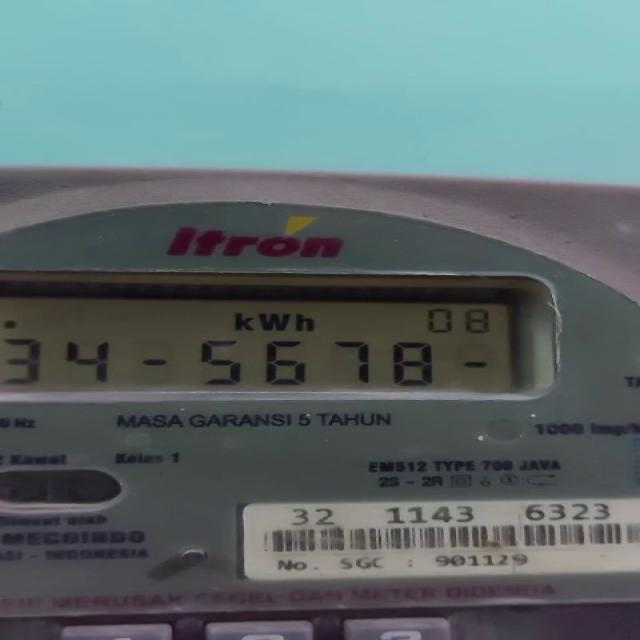LCD: (0, 268, 555, 403)
